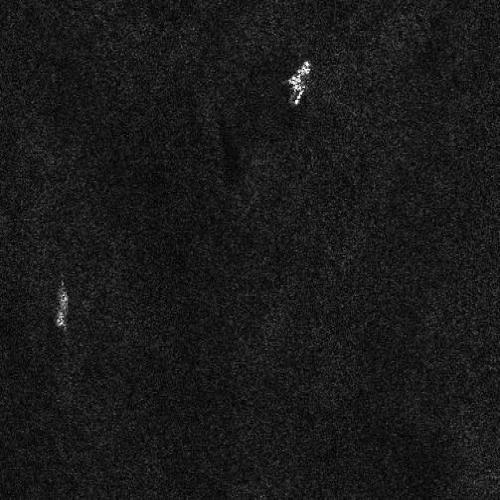ship: (288, 59, 311, 108), (55, 285, 68, 328)
